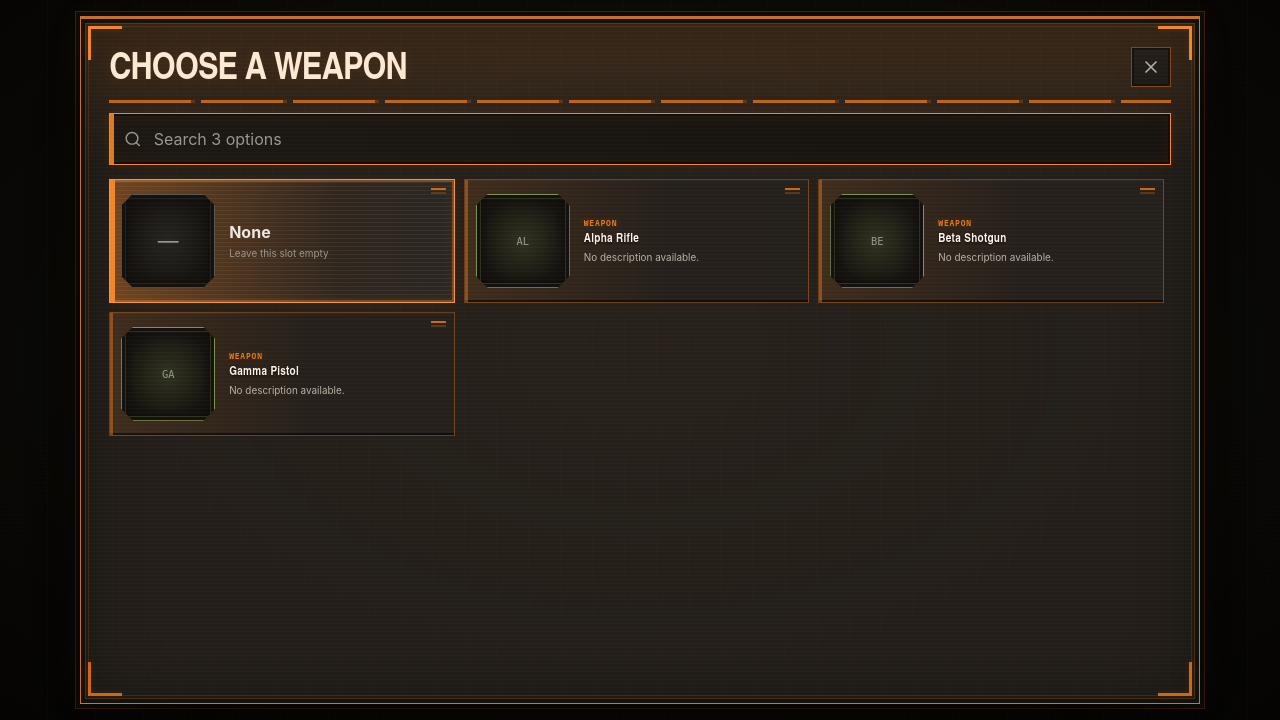
RecordPicker search result count › puts the filtered record count in the placeholder without counting None
The width and height of the screenshot is (1280, 720).
Type "rifle" into the search field named "Search Choose a weapon" at (654, 139), box [152,128,1156,150]
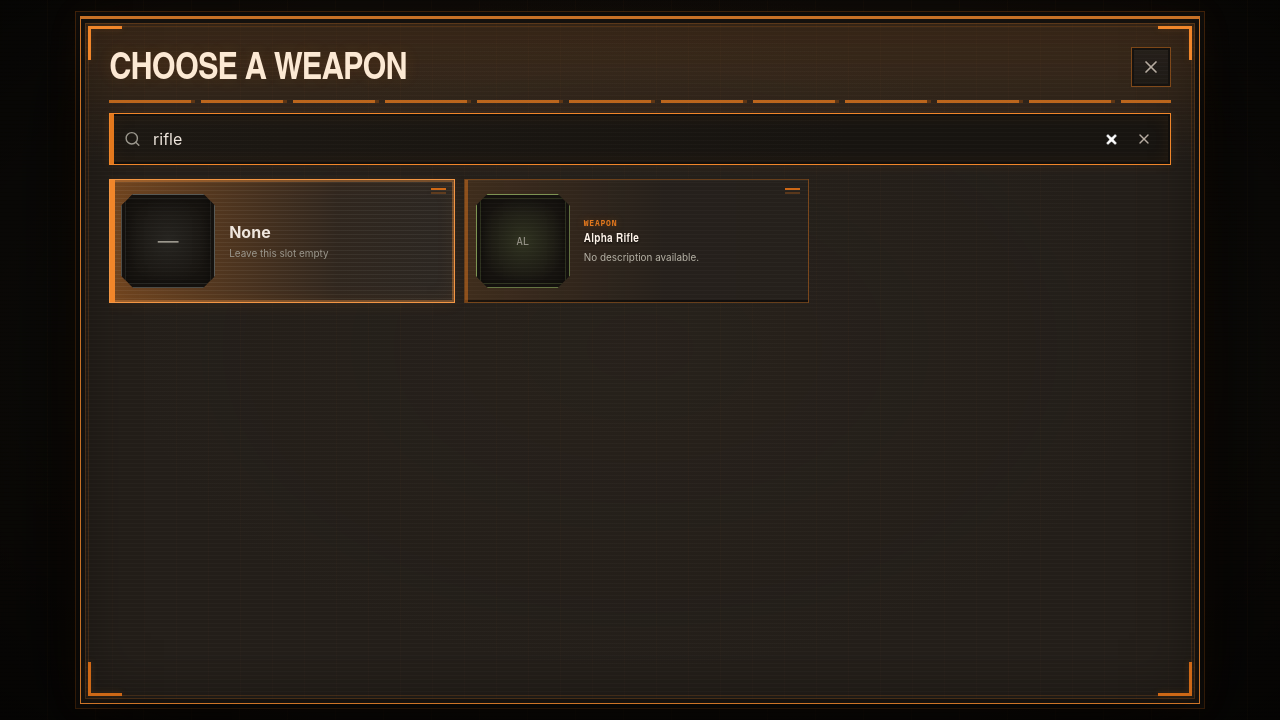
Expected: the button "— None Leave this slot empty" is shown, [109,179,455,303]
Expected: the button "Beta Shotgun" is gone
Replace the text in the search field named "Search Choose a weapon" with "no result" at (636, 139), box [151,128,1122,150]
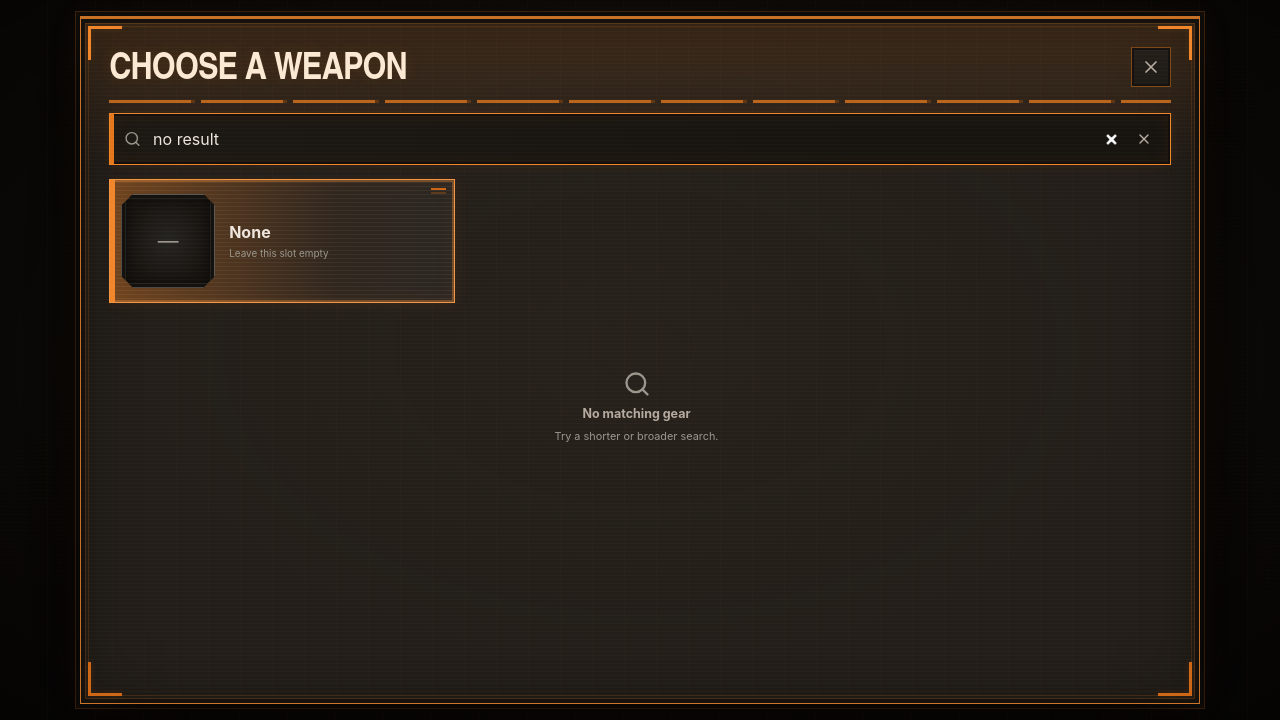
Expected: the text "No matching gear" is shown, [582,406,690,421]
